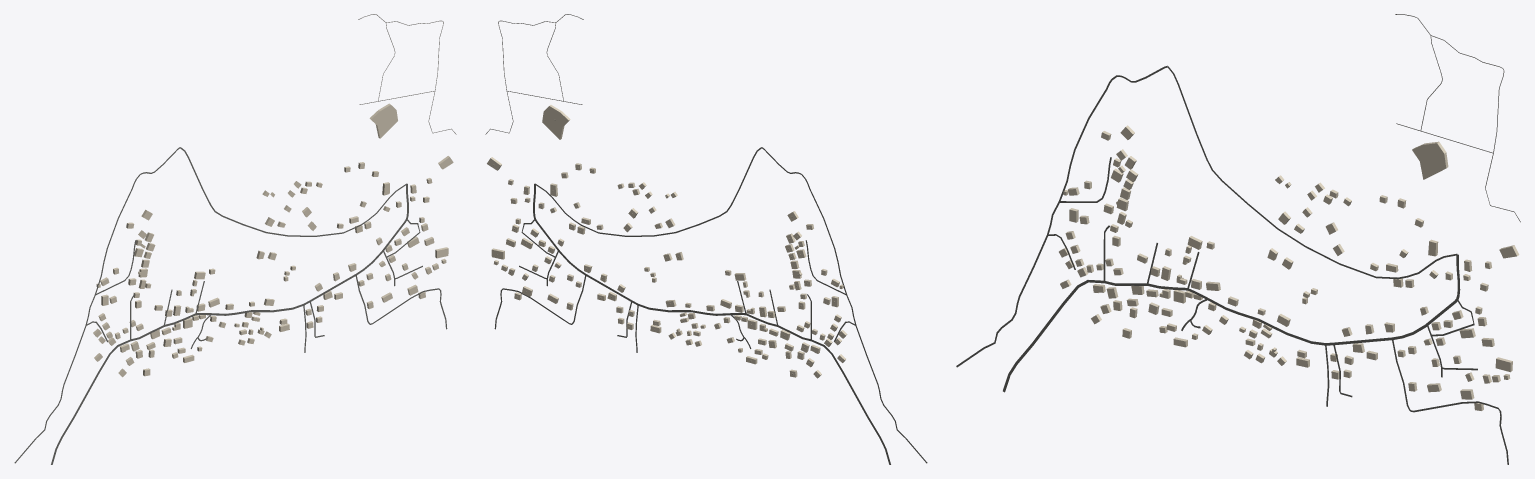
The model's file is historic-palestine-09_26_3507_3200.glb.
The picture shows the model from 3 angles, left to right: view 1: azimuth 30°, elevation 25°; view 2: azimuth 150°, elevation 25°; view 3: azimuth 330°, elevation 25°; orthographic projection. The views are drawn at different scales.
Visible parts, largest first — view 1: Road .014, Road, Building_.138, Road .001; view 2: Road .014, Road, Building_.138, Road .001; view 3: Road .014, Road, Building_.138, Road .001.
Part boxes in pixels (x1,y1,x2,y2): Road .014: [51, 219, 407, 464]; Road: [14, 147, 179, 463]; Building_.138: [369, 103, 397, 138]; Road .001: [180, 147, 406, 236]; Road .014: [534, 219, 890, 464]; Road: [762, 147, 927, 463]; Building_.138: [542, 105, 570, 139]; Road .001: [535, 147, 761, 236]; Road .014: [1003, 280, 1457, 392]; Road: [956, 65, 1167, 367]; Building_.138: [1412, 141, 1448, 179]; Road .001: [1168, 66, 1457, 279].
Size of the model in its own units: 1130 by 910 by 8.7.
